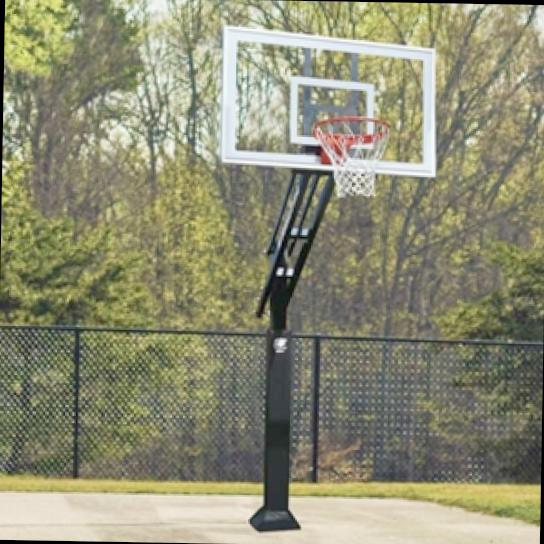basketball-hoop: (310, 112, 396, 200)
